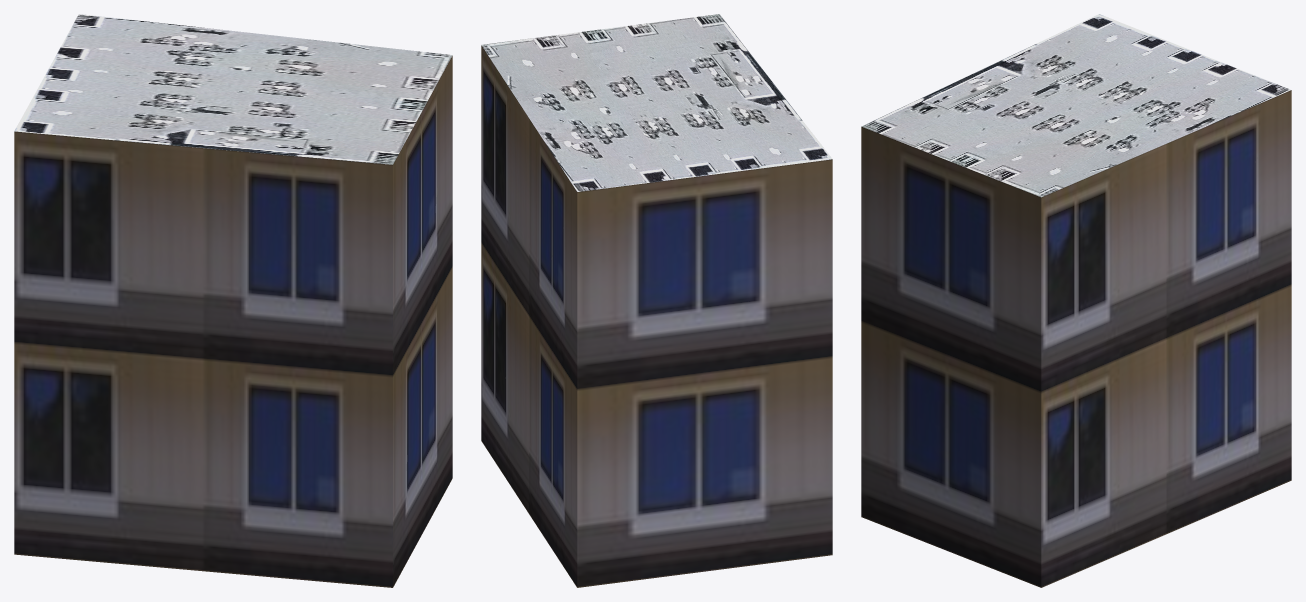
The model's file is ResTex__4518.fbx.
The picture shows the model from 3 angles, left to right: view 1: azimuth 30°, elevation 25°; view 2: azimuth 150°, elevation 25°; view 3: azimuth 270°, elevation 25°; orthographic projection. The views are drawn at different scales.
Parts seen in each view (by area): view 1: CityEngineMaterial_5_m, CityEngineMaterial_8_m; view 2: CityEngineMaterial_5_m, CityEngineMaterial_8_m; view 3: CityEngineMaterial_5_m, CityEngineMaterial_8_m.
Boxes of the visible parts, x1,y1,x2,y2 form: CityEngineMaterial_5_m: [14, 56, 452, 587]; CityEngineMaterial_8_m: [14, 14, 452, 164]; CityEngineMaterial_5_m: [481, 45, 832, 587]; CityEngineMaterial_8_m: [481, 14, 832, 191]; CityEngineMaterial_5_m: [861, 90, 1291, 587]; CityEngineMaterial_8_m: [861, 14, 1290, 197].
Size of the model in its own units: 6.04 by 6 by 5.99.
2 materials, 2 textured.
